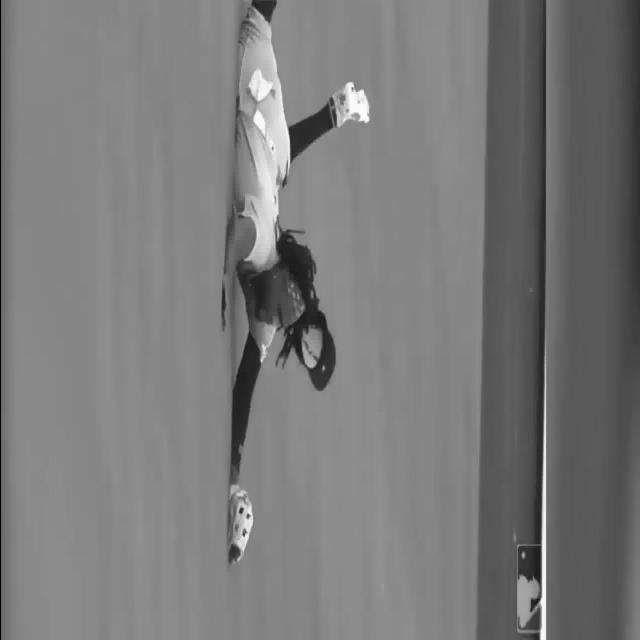baseball_glove: (228, 484, 252, 562)
shoe: (335, 82, 369, 128)
